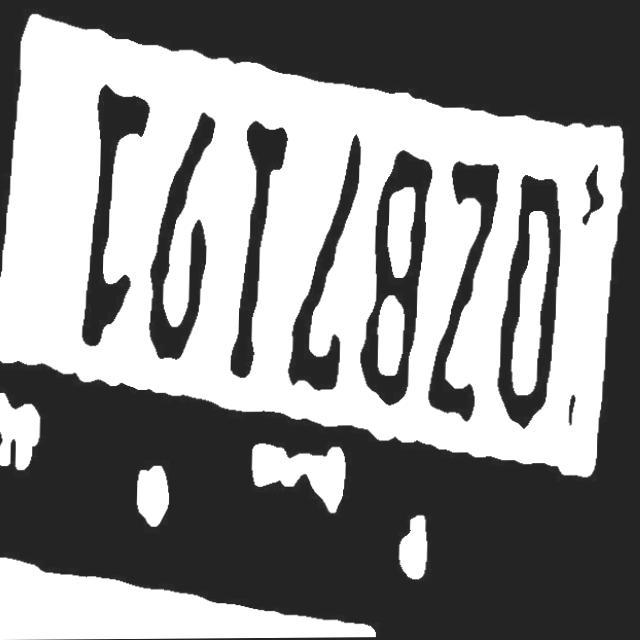1: (77, 82, 152, 353)
7: (286, 127, 361, 400)
9: (146, 101, 225, 368)
b: (362, 141, 435, 412)
i: (224, 115, 291, 384)
q: (496, 172, 567, 432)
z: (428, 155, 502, 431)
